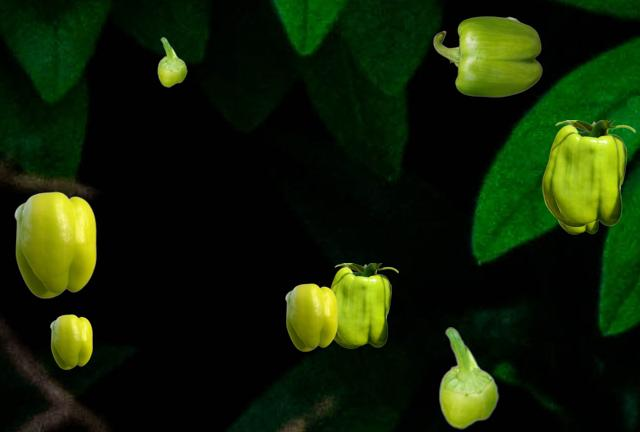bell_pepper: (542, 120, 634, 226), (433, 16, 541, 96), (14, 191, 95, 297), (438, 327, 498, 428), (330, 263, 397, 347), (285, 283, 336, 350), (50, 314, 91, 368), (157, 37, 186, 86), (557, 220, 599, 233)
